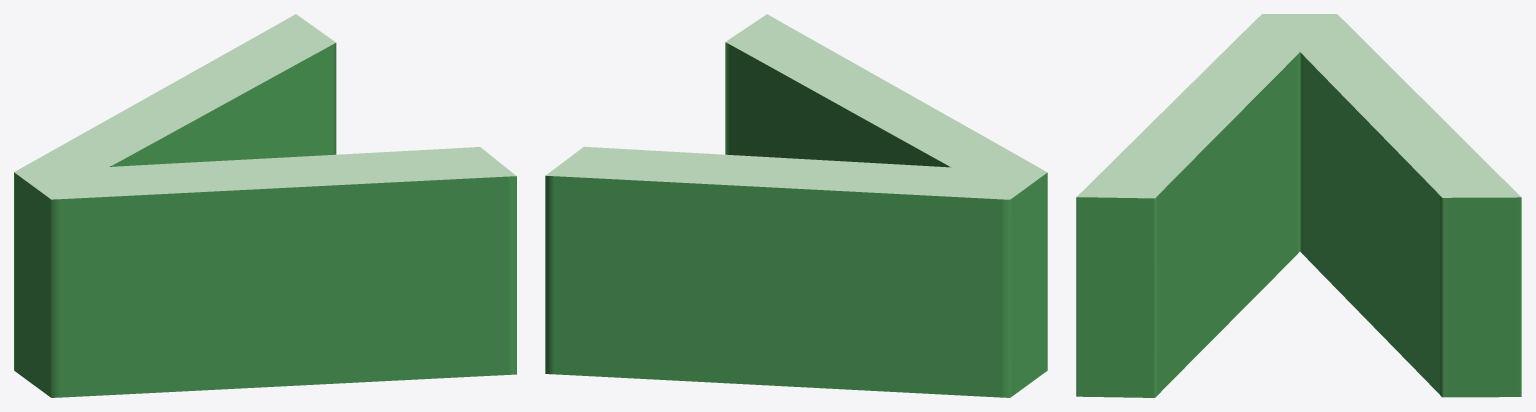
File: codegator.glb
3 views of the same model, side by side, from view 1: azimuth 30°, elevation 25°; view 2: azimuth 150°, elevation 25°; view 3: azimuth 270°, elevation 25° (orthographic).
Parts seen in each view (by area): view 1: BezierCurve; view 2: BezierCurve; view 3: BezierCurve.
Part boxes in pixels (box(x1,y1,x2,y2)): BezierCurve: box(14, 14, 516, 397); BezierCurve: box(545, 14, 1047, 397); BezierCurve: box(1076, 14, 1521, 397).
Bounding box in the file's own units: 0.4756 × 0.24 × 0.4855.
